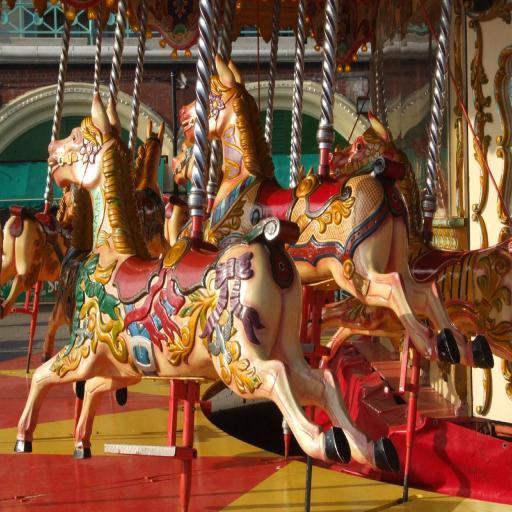horse: (12, 89, 401, 475), (180, 50, 494, 367), (304, 109, 512, 367), (47, 184, 93, 364), (0, 202, 67, 322), (134, 117, 172, 258), (170, 140, 196, 186), (298, 163, 314, 181)
